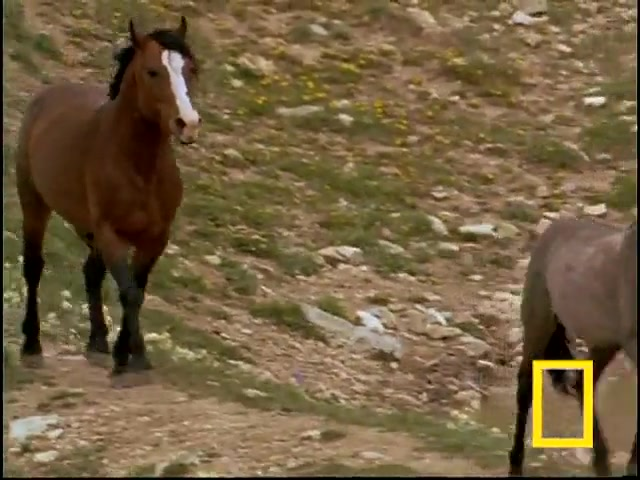horse: (14, 15, 204, 385)
